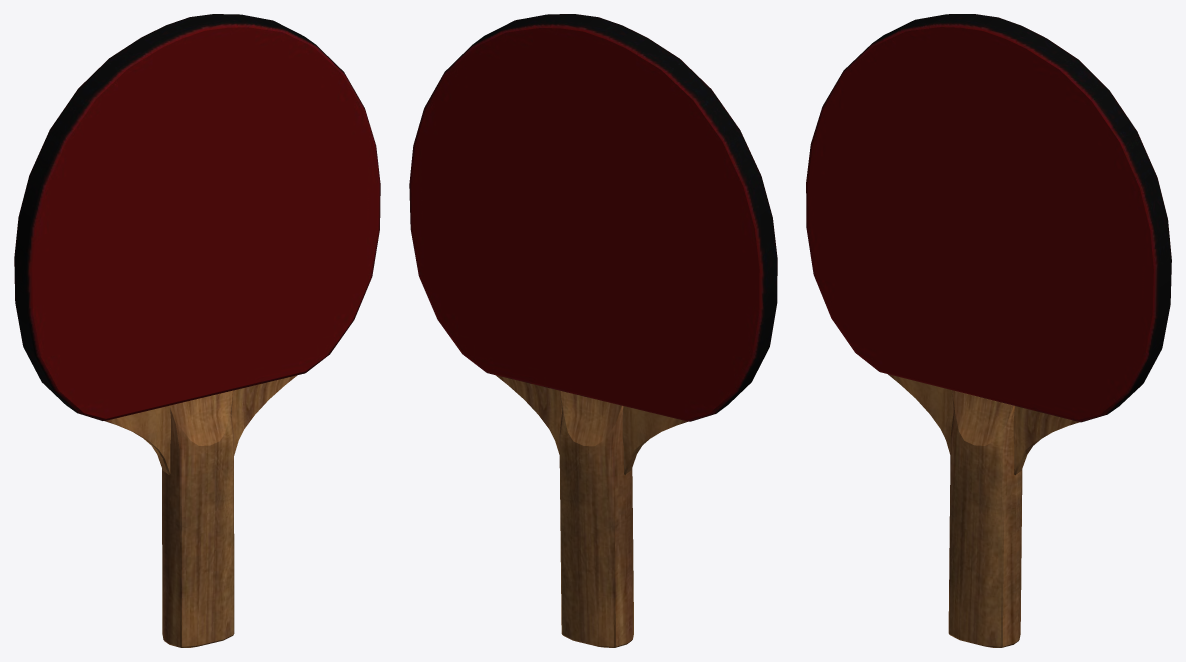
File: paddle2.glb
3 renders of one model, left to right at view 1: azimuth 30°, elevation 25°; view 2: azimuth 150°, elevation 25°; view 3: azimuth 330°, elevation 25°, orthographic.
Visible parts, largest first — view 1: paddle; view 2: paddle; view 3: paddle.
Part boxes in pixels (<box>): paddle: <box>14,14,380,647</box>; paddle: <box>409,14,777,647</box>; paddle: <box>806,14,1171,647</box>.
Bounding box in the file's own units: 0.2112 × 0.3523 × 0.0267.
Materials: 1 (1 with a texture image).
